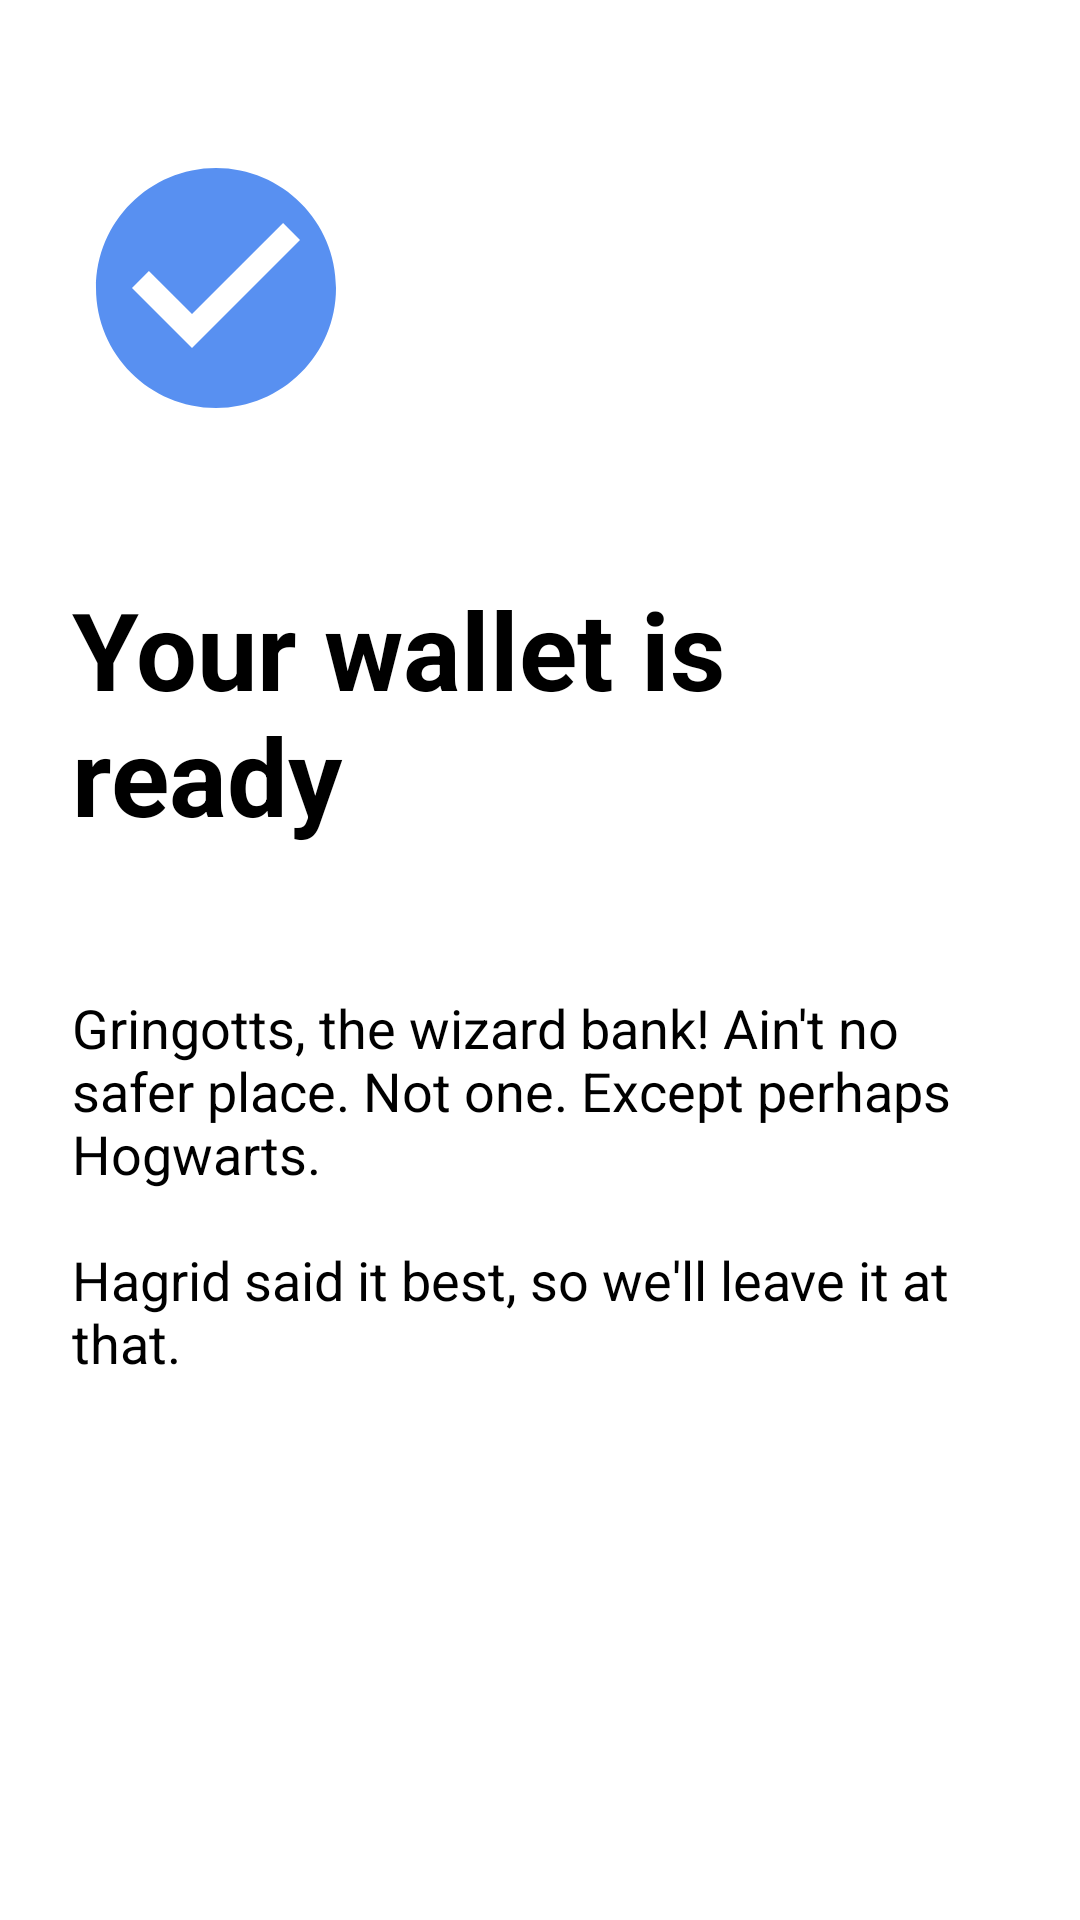

Icons on this 1080 × 1920 Android screen, each with the point to tap as (x,y):
Check mark: (216,288)
